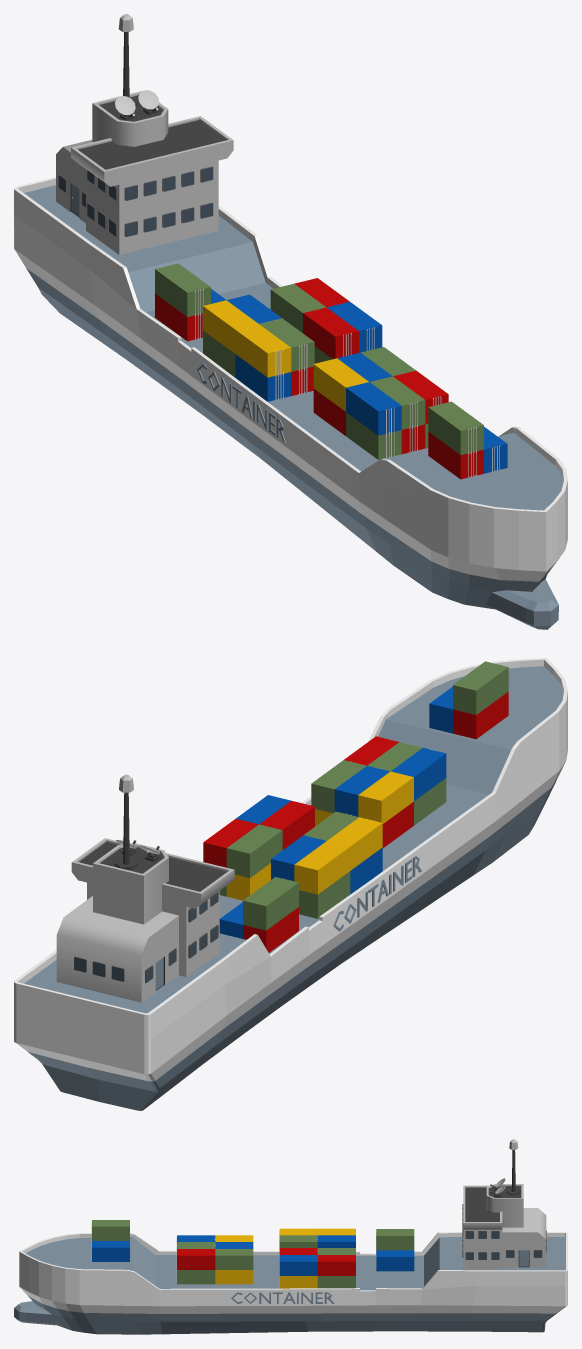
File: Ship.fbx
3 renders of one model, top to bottom at view 1: azimuth 30°, elevation 25°; view 2: azimuth 150°, elevation 25°; view 3: azimuth 270°, elevation 25°, orthographic. The views are drawn at different scales.
Parts seen in each view (by area): view 1: Container Ship_1 Lod_0.004_Color_0; view 2: Container Ship_1 Lod_0.004_Color_0; view 3: Container Ship_1 Lod_0.004_Color_0.
Part boxes in pixels (x1=…): Container Ship_1 Lod_0.004_Color_0: x1=14, y1=14, x2=567, y2=629; Container Ship_1 Lod_0.004_Color_0: x1=14, y1=658, x2=567, y2=1110; Container Ship_1 Lod_0.004_Color_0: x1=14, y1=1139, x2=567, y2=1334.
Bounding box in the file's own units: 819 × 1749 × 4868.
Materials: 1 (1 with a texture image).
